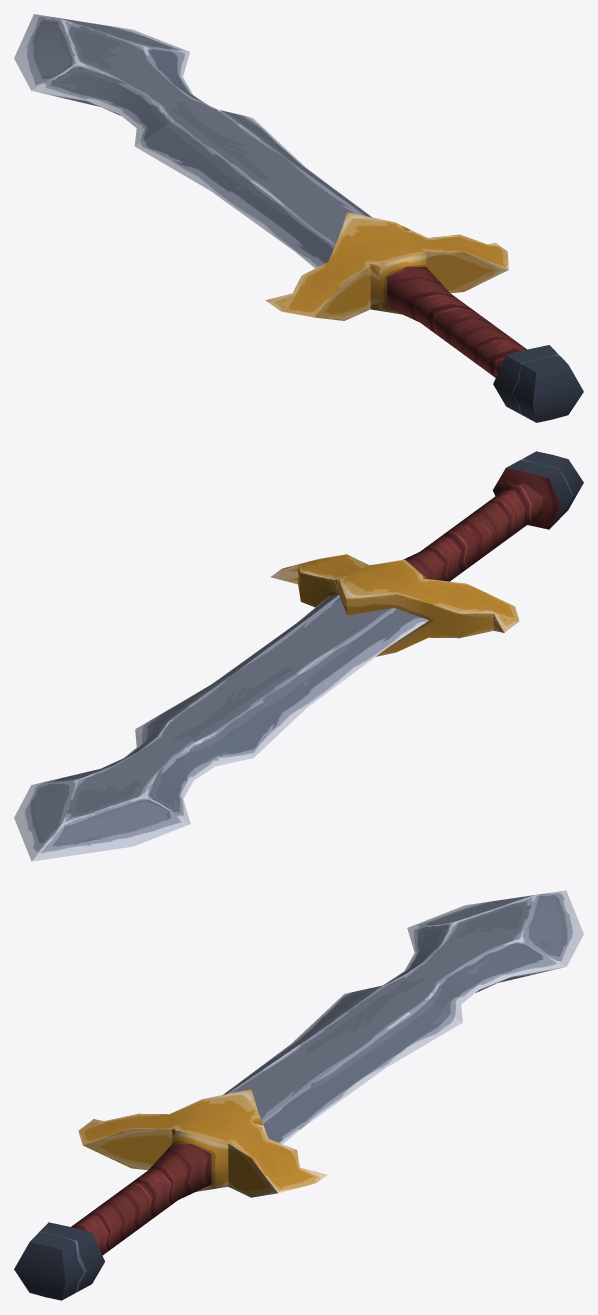
Rendered from SM_PROP_weapon_sword_interior.fbx.
3 views of the same model, one above another, from view 1: azimuth 30°, elevation 25°; view 2: azimuth 150°, elevation 25°; view 3: azimuth 330°, elevation 25° (orthographic).
Parts seen in each view (by area): view 1: SM_PROP_weapon_sword_interior; view 2: SM_PROP_weapon_sword_interior; view 3: SM_PROP_weapon_sword_interior.
Boxes of the visible parts, x1,y1,x2,y2 form: SM_PROP_weapon_sword_interior: (14,14,583,422); SM_PROP_weapon_sword_interior: (14,451,583,861); SM_PROP_weapon_sword_interior: (14,890,583,1300).
Bounding box in the file's own units: 25.67 × 6.68 × 101.
